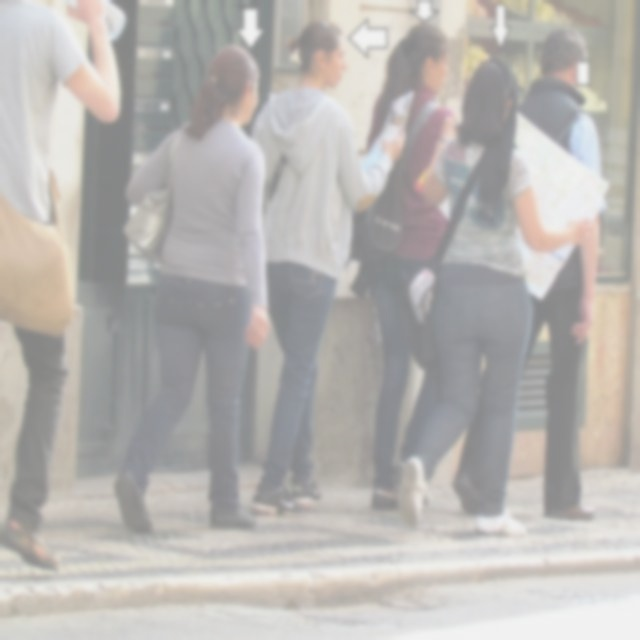pessoa: (394, 58, 596, 544), (109, 41, 275, 540), (246, 16, 407, 522), (451, 25, 604, 522), (0, 0, 123, 578), (362, 20, 461, 512)
